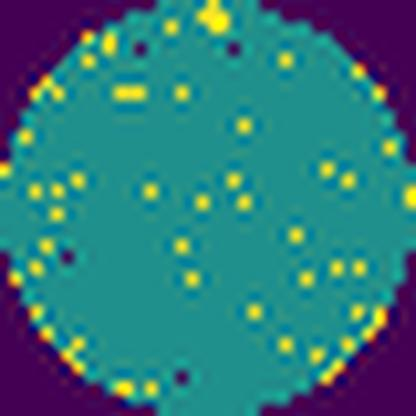Loc: (198, 0, 231, 31)
